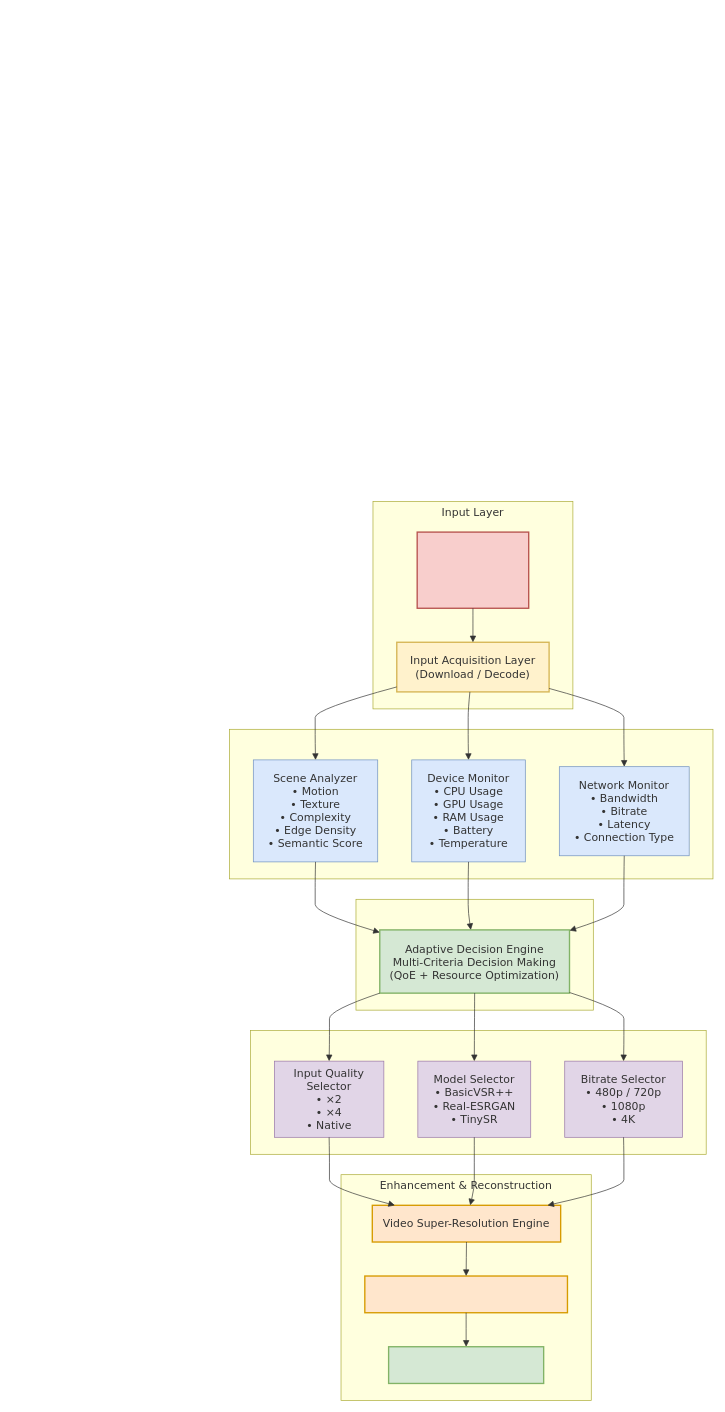
Image size: 725x1412. Some labels were removed from this diagram. The shapes that lost their labels are listed below. From the top down, each one's box as (x1, y1, x2, y2) in pixels, then its label:
(416, 531, 529, 609): Input Source • Local Video • YouTube URL • Live Stream
(229, 729, 713, 879): Monitoring & Telemetry Layer
(355, 899, 593, 1010): Decision Core
(250, 1030, 706, 1154): Selector Controls
(364, 1275, 568, 1313): Reconstruction & Post-processing
(388, 1346, 544, 1384): Enhanced Output Video
